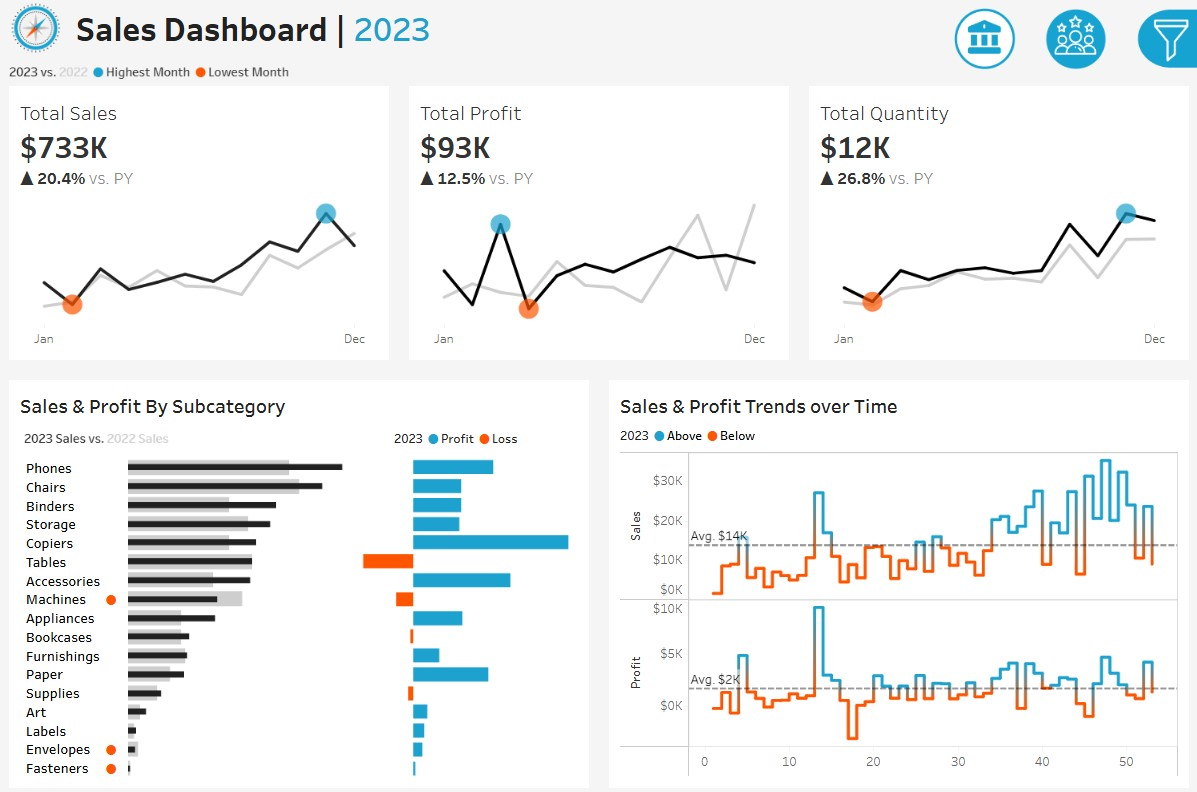

The page's visual inventory and layout, read from the dashboard file:
{"tool":"tableau","page":{"name":"Sales Dashboard","canvas":[1200,800],"ordinal":1},"visuals":[{"type":"image","param":"Image/Icon - Logo.png","box":[0,0,73,59]},{"type":"text","box":[73,0,820,59]},{"type":"dashboard-object","box":[940,6,91,70]},{"type":"dashboard-object","box":[1031,6,91,70]},{"type":"blank","box":[952,10,237,86]},{"type":"worksheet","title":"Legend KPI","mark":"Automatic","box":[0,59,1200,29]},{"type":"worksheet","title":"KPI Sales","mark":"Automatic","rows":["Calculation_721701895347843083"],"cols":["Order Date"],"box":[0,88,400,284]},{"type":"worksheet","title":"KPI Profit","mark":"Automatic","rows":["Min/Max Sales (copy)_237846410425847814"],"cols":["Order Date"],"box":[400,88,400,284]},{"type":"worksheet","title":"KPI Quantity","mark":"Automatic","rows":["Min/Max Sales (copy) (copy)_237846410425856007"],"cols":["Order Date"],"box":[800,88,400,284]},{"type":"text","box":[952,96,237,37]},{"type":"parameter","param":"[Parameters].[Parameter 1]","box":[952,133,237,55]},{"type":"text","box":[952,188,237,32]},{"type":"filter","title":"KPI Sales","param":"[federated.1kpxa041aiai2y1cl4pui1t4eju9].[none:Category:nk]","box":[952,220,237,57]},{"type":"filter","title":"KPI Sales","param":"[federated.1kpxa041aiai2y1cl4pui1t4eju9].[none:Sub-Category:nk]","box":[952,277,237,57]},{"type":"blank","box":[952,334,237,60]},{"type":"text","box":[17,389,566,40]},{"type":"text","box":[617,389,566,40]},{"type":"text","box":[952,394,237,32]},{"type":"filter","title":"KPI Sales","param":"[federated.1kpxa041aiai2y1cl4pui1t4eju9].[none:Region:nk]","box":[952,426,237,57]},{"type":"worksheet","title":"Legend Subcategory","mark":"Automatic","box":[17,429,374,32]},{"type":"text","box":[391,429,192,32]},{"type":"text","box":[617,429,566,29]},{"type":"worksheet","title":"Weekly Trends","mark":"Automatic","rows":["Calculation_721701895334993921","CY Sales (copy)_237846410424180736"],"cols":["Order Date"],"box":[617,458,566,325]},{"type":"worksheet","title":"Subcategory Comparison","mark":"Bar","rows":["Sub-Category","Calculation_2435040078806671369"],"cols":["CY Sales (copy)_721701895335804930","Calculation_721701895334993921","CY Sales (copy)_237846410424180736"],"box":[17,461,566,321.9]},{"type":"filter","title":"KPI Sales","param":"[federated.1kpxa041aiai2y1cl4pui1t4eju9].[none:State:nk]","box":[952,483,237,57]},{"type":"filter","title":"KPI Sales","param":"[federated.1kpxa041aiai2y1cl4pui1t4eju9].[none:City:nk]","box":[952,540,237,57]}]}

Visuals, with their boxes in screenshot pixels (x1, y1, x2, y2), scaled from the page's 1200x800 canvas onto the 1197x792 screenshot:
image: [0, 0, 73, 58]
text: [73, 0, 891, 58]
dashboard-object: [938, 6, 1028, 75]
dashboard-object: [1028, 6, 1119, 75]
blank: [950, 10, 1186, 95]
"Legend KPI" worksheet: [0, 58, 1196, 87]
"KPI Sales" worksheet: [0, 87, 399, 368]
"KPI Profit" worksheet: [399, 87, 798, 368]
"KPI Quantity" worksheet: [798, 87, 1196, 368]
text: [950, 95, 1186, 132]
parameter: [950, 132, 1186, 186]
text: [950, 186, 1186, 218]
"KPI Sales" filter: [950, 218, 1186, 274]
"KPI Sales" filter: [950, 274, 1186, 331]
blank: [950, 331, 1186, 390]
text: [17, 385, 582, 425]
text: [615, 385, 1180, 425]
text: [950, 390, 1186, 422]
"KPI Sales" filter: [950, 422, 1186, 478]
"Legend Subcategory" worksheet: [17, 425, 390, 456]
text: [390, 425, 582, 456]
text: [615, 425, 1180, 453]
"Weekly Trends" worksheet: [615, 453, 1180, 775]
"Subcategory Comparison" worksheet (Bar marks): [17, 456, 582, 775]
"KPI Sales" filter: [950, 478, 1186, 535]
"KPI Sales" filter: [950, 535, 1186, 591]
